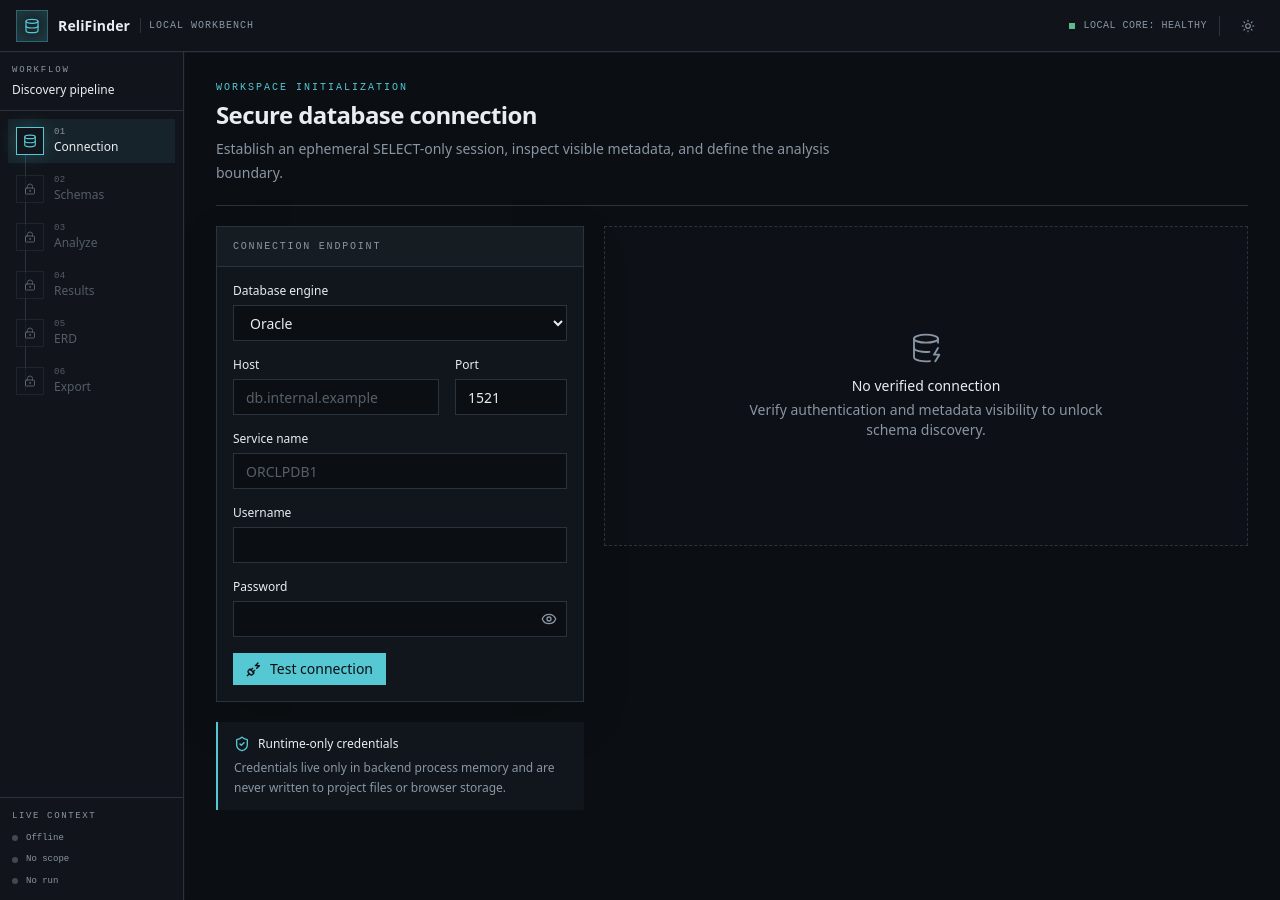
it: ReliFinder application foundation › switches theme using an accessible button
Step 1. Click the button named "Switch to light theme" → {"x": 1248, "y": 26}, box 1232,10 -> 1264,42
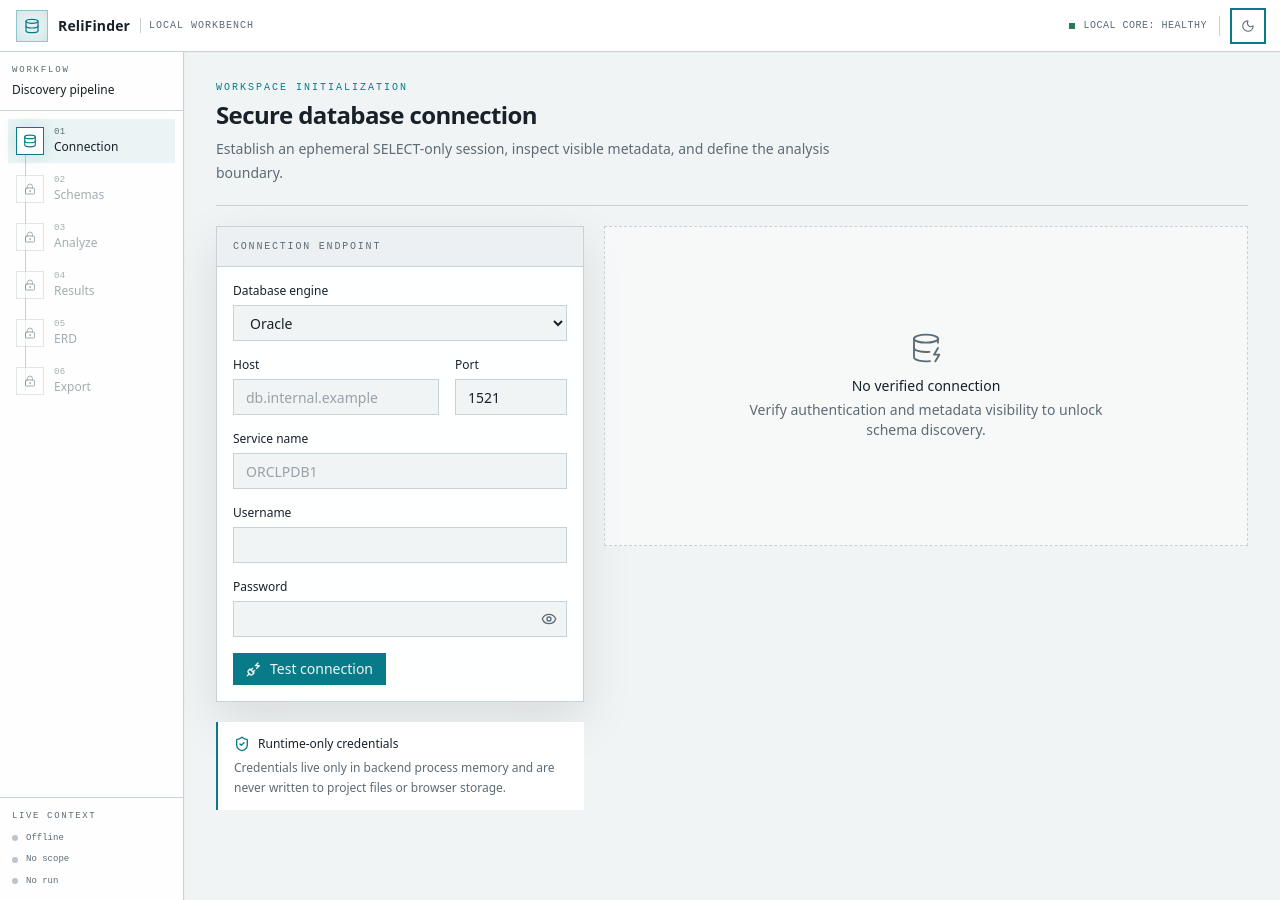
expect the button named "Switch to dark theme" is shown: met, box 1232,10 -> 1264,42
